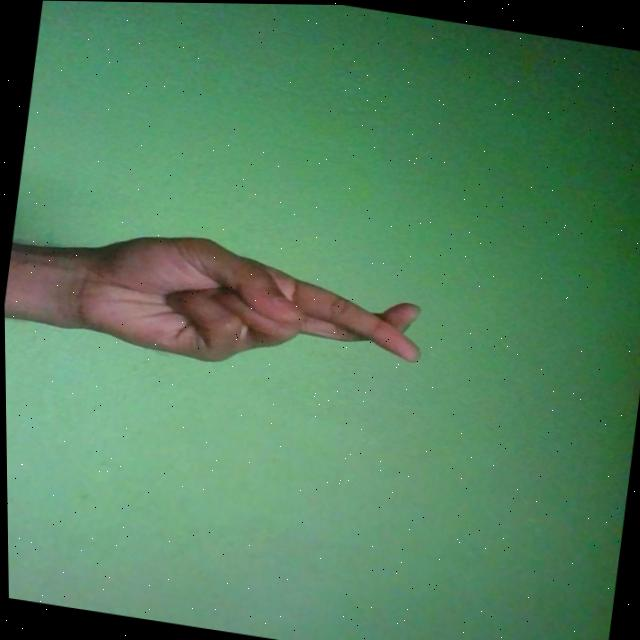Good Luck: (63, 220, 431, 394)
